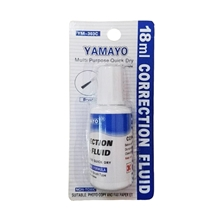Correction_fluid: (84, 64, 135, 192)
